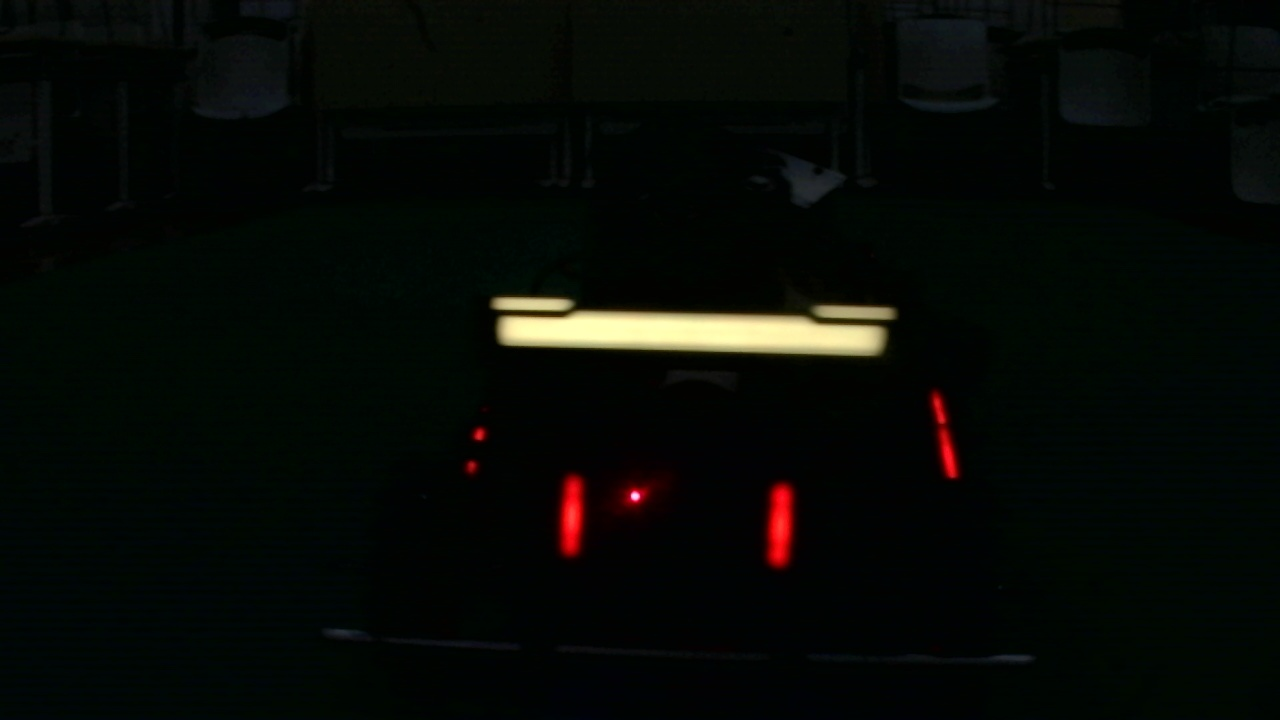lamp: (762, 467, 795, 577), (927, 382, 958, 484), (555, 477, 587, 559)
notpair1: (766, 381, 966, 575)
pair1: (558, 472, 791, 564)
